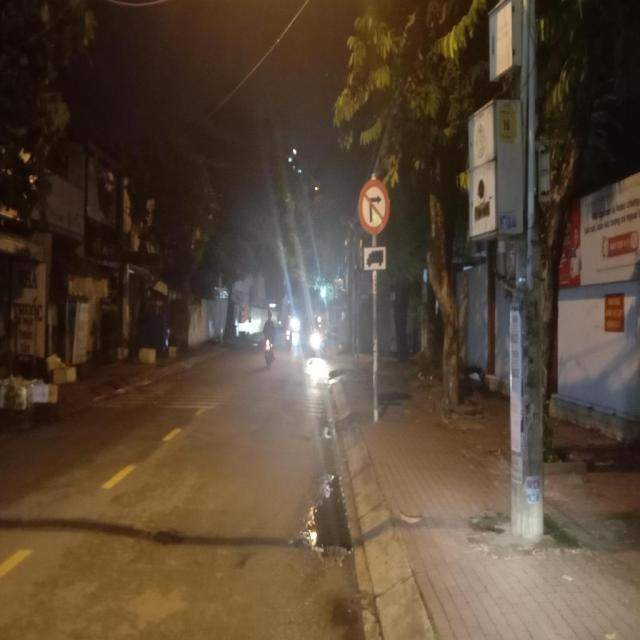cam_re_phai: (358, 179, 389, 234)
khac: (364, 247, 386, 270)
